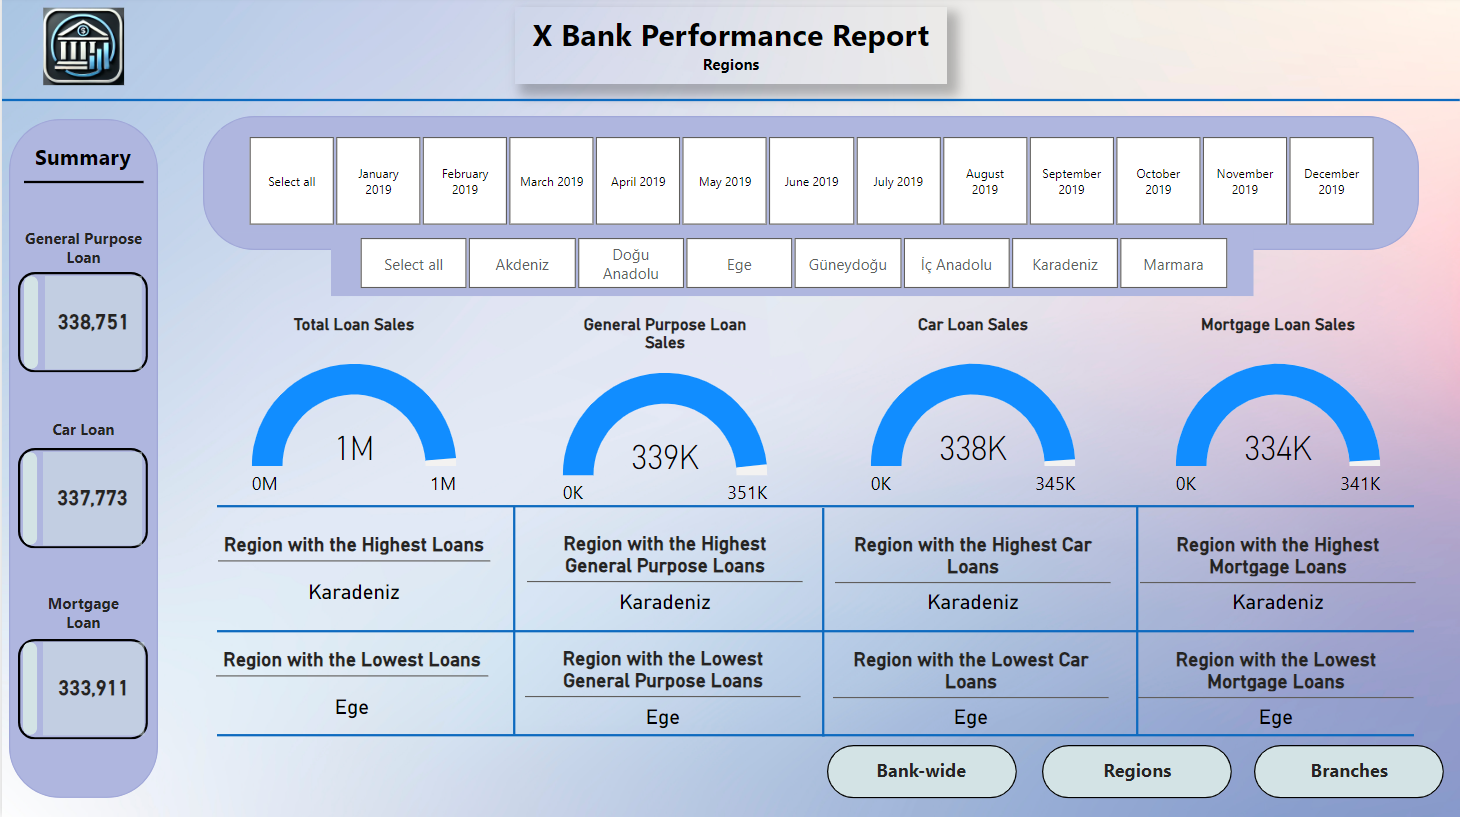

The page's visual inventory and layout, read from the dashboard file:
{"tool":"powerbi","page":{"name":"Regions","canvas":[1280,720],"ordinal":1},"visuals":[{"type":"textbox","box":[450.4,8.8,379.3,68.5],"z":0},{"type":"shape","box":[0,58,1280.2,65],"z":1000},{"type":"shape","box":[6.1,107.1,130.8,596.2],"z":2000},{"type":"textbox","box":[14.2,123.3,114.2,39.2],"z":3000},{"type":"shape","box":[19.3,147.5,105.4,29.9],"z":4000},{"type":"shape","box":[14.2,241.7,114.2,88.3],"z":5000},{"type":"shape","box":[14.2,396.2,114.2,88.3],"z":6000},{"type":"shape","box":[14.2,563.3,114.2,88.3],"z":7000},{"type":"textbox","box":[7.5,197.5,127.5,49.2],"z":8000},{"type":"shape","box":[19.2,245,12.5,81.7],"z":9000},{"type":"shape","box":[18.3,399.5,12.5,81.7],"z":10000},{"type":"shape","box":[18.3,566.7,12.5,81.7],"z":11000},{"type":"textbox","box":[30,365.4,83.3,30.8],"z":12000},{"type":"image","box":[20,4.2,102.5,78.3],"z":13000},{"type":"textbox","box":[20,518.3,102.5,45],"z":14000},{"type":"shape","box":[1099.2,656.7,166.7,46.7],"z":15000},{"type":"shape","box":[913.3,656.7,166.7,46.7],"z":16000},{"type":"shape","box":[724.2,656.7,166.7,46.7],"z":17000},{"type":"textbox","box":[745.8,663.3,123.3,33.3],"z":18000},{"type":"textbox","box":[935,663.3,123.3,33.3],"z":19000},{"type":"textbox","box":[1120.8,663.3,123.3,33.3],"z":20000},{"type":"shape","box":[176.5,104.5,1067.7,117.7],"z":21000},{"type":"slicer","fields":{"Values":["Loans.Ay"]},"box":[191.4,115.9,1037,91.3],"z":22000},{"type":"slicer","fields":{"Values":["Branches.Bolgesi"]},"box":[288.9,204.6,810.4,58],"z":23000},{"type":"gauge","title":"Total Loan Sales","fields":{"Y":["Measurements.Total Loan Sales"],"MaxValue":["Measurements.Total Loan Target"]},"box":[214.2,279.2,189.7,190.5],"z":24000},{"type":"gauge","title":"Car Loan Sales","fields":{"Y":["Measurements.Car Loan Sales"],"MaxValue":["Measurements.Car Loan Total Target"]},"box":[757.8,279.2,189.7,190.5],"z":25000},{"type":"gauge","title":"General Purpose Loan Sales","fields":{"Y":["Measurements.General Purpose Loan Sales"],"MaxValue":["Measurements.General Purpose Loan Total Target"]},"box":[487.3,279.2,189.7,190.5],"z":26000},{"type":"gauge","title":"Mortgage Loan Sales ","fields":{"Y":["Measurements.Mortgage Loan Sales"],"MaxValue":["Measurements.Mortgage Loan Total Target"]},"box":[1025.6,279.2,189.7,190.5],"z":27000},{"type":"card","fields":{"Values":["Measurements.General Purpose Loan Sales"]},"box":[37.8,245,85.2,81.7],"z":28000},{"type":"card","fields":{"Values":["Measurements.Car Loan Sales"]},"box":[36,399.5,86.9,81.7],"z":29000},{"type":"card","fields":{"Values":["Measurements.Mortgage Loan Sales"]},"box":[36,566.3,88.7,81.7],"z":30000},{"type":"card","title":"Region with the Highest Loans","fields":{"Values":["Min(Branches.Bolgesi)"]},"box":[189.7,470.6,238.8,77.3],"z":31000},{"type":"card","title":"Region with the Highest General Purpose Loans","fields":{"Values":["Min(Branches.Bolgesi)"]},"box":[461,469.8,242.3,78.1],"z":32000},{"type":"card","title":"Region with the Highest Mortgage Loans","fields":{"Values":["Min(Branches.Bolgesi)"]},"box":[999.2,470.6,242.3,77.3],"z":33000},{"type":"card","title":"Region with the Highest Car Loans","fields":{"Values":["Min(Branches.Bolgesi)"]},"box":[731.4,470.6,242.3,77.3],"z":34000},{"type":"card","title":"Region with the Lowest Loans","fields":{"Values":["Min(Branches.Bolgesi)"]},"box":[188.2,572,238.8,77.3],"z":35000},{"type":"card","title":"Region with the Lowest General Purpose Loans","fields":{"Values":["Min(Branches.Bolgesi)"]},"box":[459.6,571.1,242.3,78.1],"z":36000},{"type":"card","title":"Region with the Lowest Mortgage Loans","fields":{"Values":["Min(Branches.Bolgesi)"]},"box":[997.8,572,242.3,77.3],"z":37000},{"type":"card","title":"Region with the Lowest Car Loans","fields":{"Values":["Min(Branches.Bolgesi)"]},"box":[730,572,242.3,77.3],"z":38000},{"type":"shape","box":[188.7,440.6,1051.4,12.6],"z":39000},{"type":"shape","box":[188.7,641.9,1051.4,12.6],"z":40000},{"type":"shape","box":[188.7,550.5,1051.4,12.6],"z":41000},{"type":"shape","box":[443.3,447.3,12.7,200.7],"z":42000},{"type":"shape","box":[714.7,448.7,12.7,200.7],"z":43000},{"type":"shape","box":[990,447.3,12.7,200.7],"z":44000}]}

Visuals, with their boxes in screenshot pixels (x1, y1, x2, y2), scaled from the page's 1280x720 canvas onto the 1460x817 screenshot:
textbox: detection(514, 10, 946, 88)
shape: detection(0, 66, 1459, 140)
shape: detection(7, 122, 156, 798)
textbox: detection(16, 140, 146, 184)
shape: detection(22, 167, 142, 201)
shape: detection(16, 274, 146, 374)
shape: detection(16, 450, 146, 550)
shape: detection(16, 639, 146, 739)
textbox: detection(9, 224, 154, 280)
shape: detection(22, 278, 36, 371)
shape: detection(21, 453, 35, 546)
shape: detection(21, 643, 35, 736)
textbox: detection(34, 415, 129, 450)
image: detection(23, 5, 140, 94)
textbox: detection(23, 588, 140, 639)
shape: detection(1254, 745, 1444, 798)
shape: detection(1042, 745, 1232, 798)
shape: detection(826, 745, 1016, 798)
textbox: detection(851, 753, 991, 790)
textbox: detection(1066, 753, 1207, 790)
textbox: detection(1278, 753, 1419, 790)
shape: detection(201, 119, 1419, 252)
slicer - Loans.Ay: detection(218, 132, 1401, 235)
slicer - Branches.Bolgesi: detection(330, 232, 1254, 298)
"Total Loan Sales" gauge: detection(244, 317, 461, 533)
"Car Loan Sales" gauge: detection(864, 317, 1081, 533)
"General Purpose Loan Sales" gauge: detection(556, 317, 772, 533)
"Mortgage Loan Sales " gauge: detection(1170, 317, 1386, 533)
card - Measurements.General Purpose Loan Sales: detection(43, 278, 140, 371)
card - Measurements.Car Loan Sales: detection(41, 453, 140, 546)
card - Measurements.Mortgage Loan Sales: detection(41, 643, 142, 735)
"Region with the Highest Loans" card: detection(216, 534, 489, 622)
"Region with the Highest General Purpose Loans" card: detection(526, 533, 802, 622)
"Region with the Highest Mortgage Loans" card: detection(1140, 534, 1416, 622)
"Region with the Highest Car Loans" card: detection(834, 534, 1111, 622)
"Region with the Lowest Loans" card: detection(215, 649, 487, 737)
"Region with the Lowest General Purpose Loans" card: detection(524, 648, 801, 737)
"Region with the Lowest Mortgage Loans" card: detection(1138, 649, 1414, 737)
"Region with the Lowest Car Loans" card: detection(833, 649, 1109, 737)
shape: detection(215, 500, 1414, 514)
shape: detection(215, 728, 1414, 743)
shape: detection(215, 625, 1414, 639)
shape: detection(506, 508, 520, 735)
shape: detection(815, 509, 830, 737)
shape: detection(1129, 508, 1144, 735)
